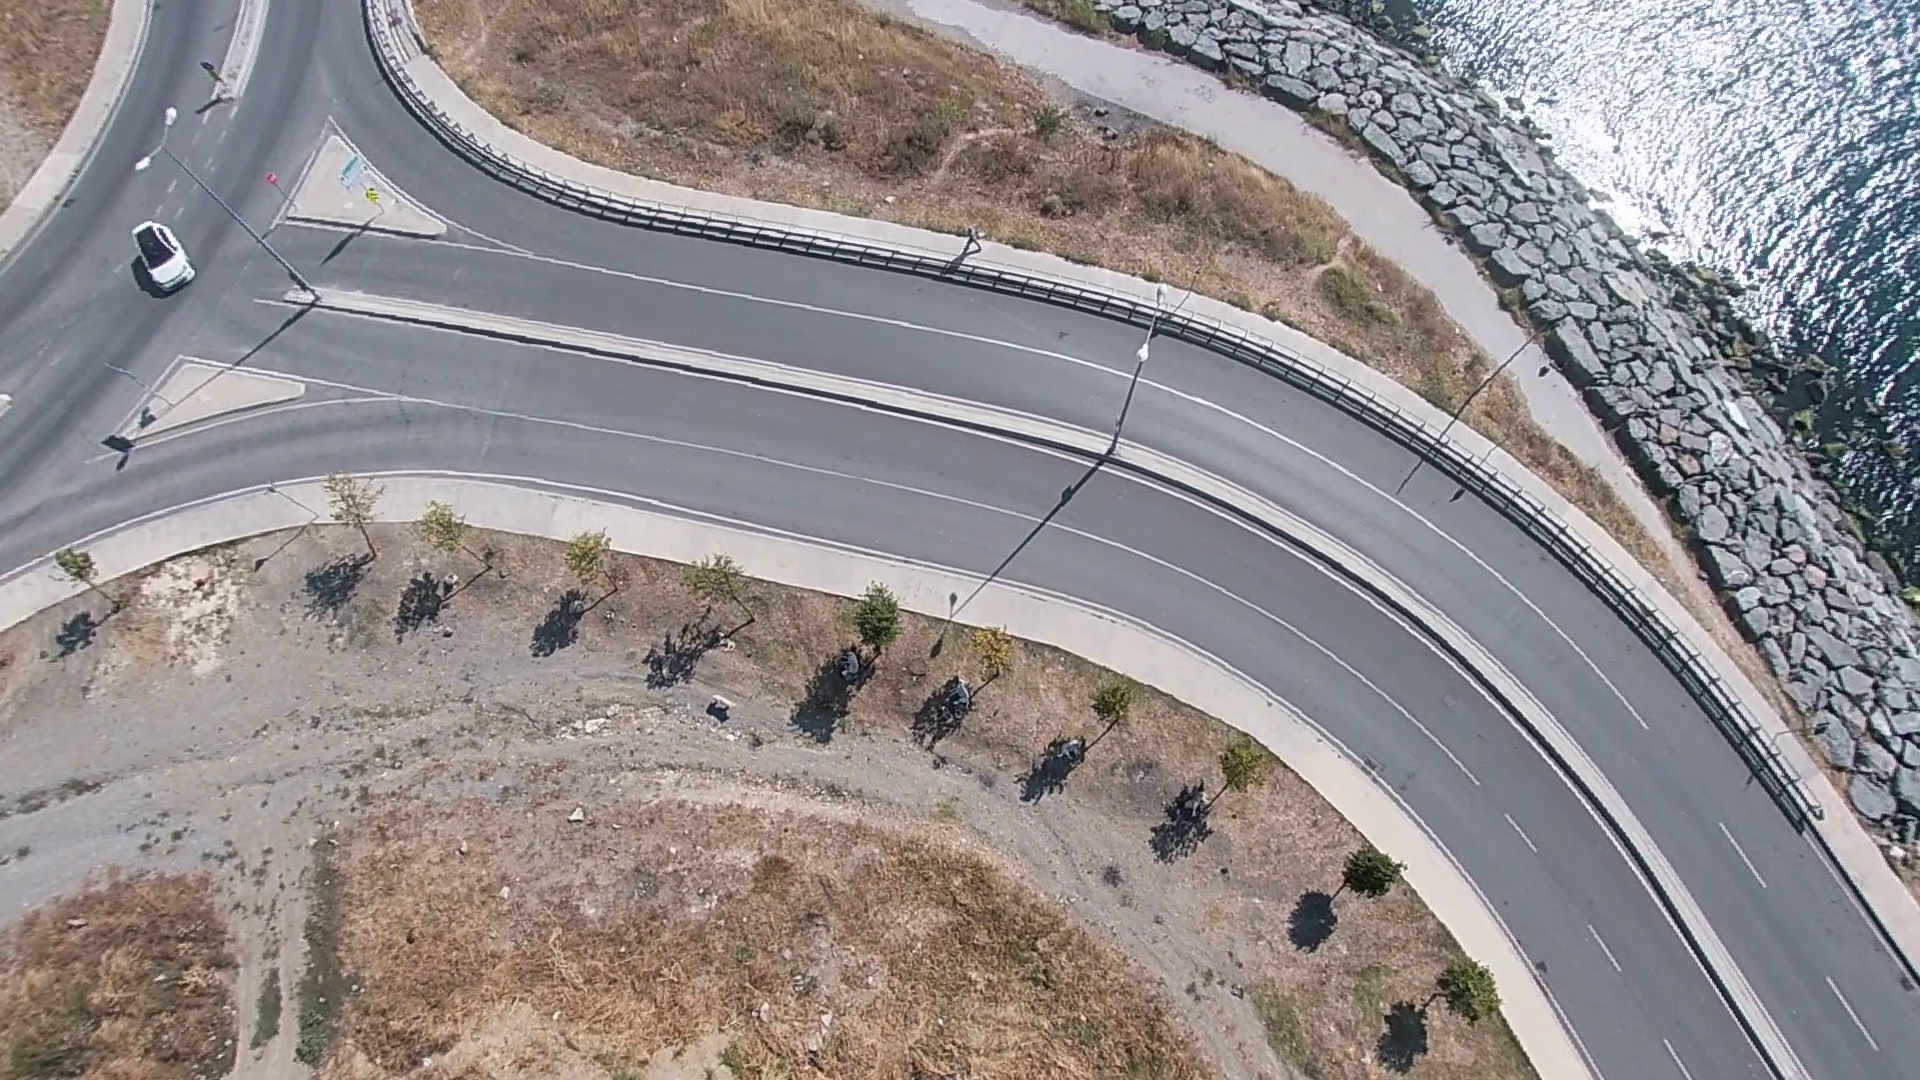araba: (129, 215, 198, 296)
insan: (960, 223, 998, 260)
